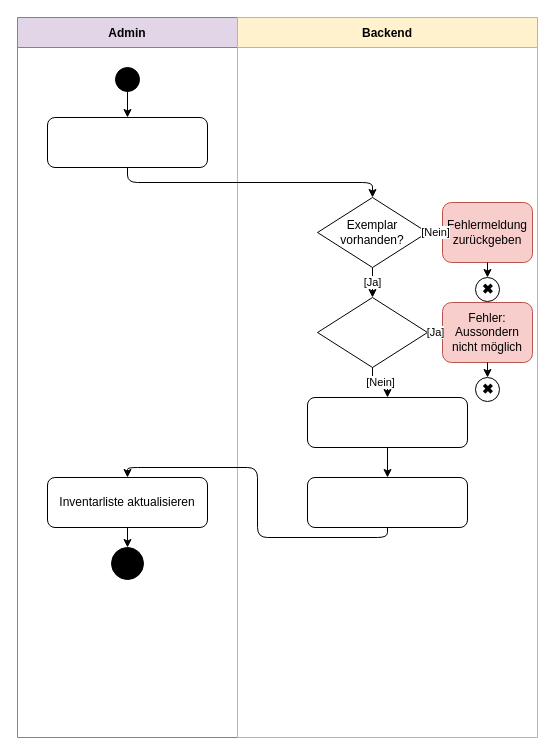
Image size: 555x755. Some labels were removed from this diagram. The centre of each missing label's shape, as x and y in pixels:
"Erfolgsmeldung zurückgeben" belongs at (387,502).
"Exemplar aktuell verliehen?" belongs at (372,332).
"Exemplar als „Ausgesondert“ markieren" belongs at (387,422).
"Exemplar auswählen und Aussondern bestätigen" belongs at (127,142).
